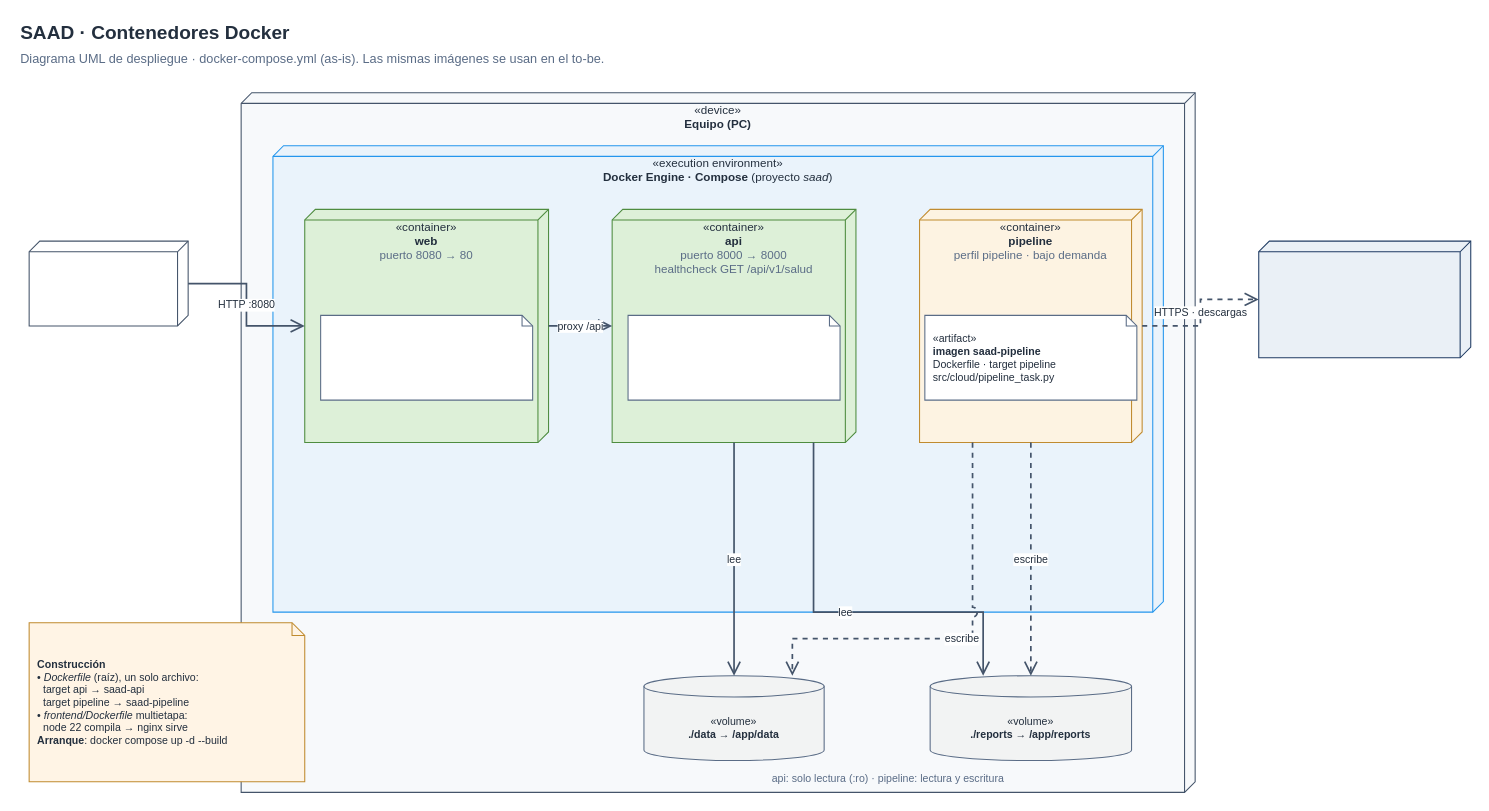
This 1489x811 diagram has some shape labels left out. The shapes that lost their labels are listed below. From the top down, each one's centre as x and y in pixels, then its label:
At [108,283]: "«device» Navegador".
At [1364,299]: "«external» Fuentes oficiales DEIS · INE · MDS · Estadísticas de Género".
At [426,357]: "«artifact» imagen saad-web nginx 1.27-alpine frontend/dist + nginx.conf".
At [733,357]: "«artifact» imagen saad-api Dockerfile · target api Uvicorn + FastAPI".
